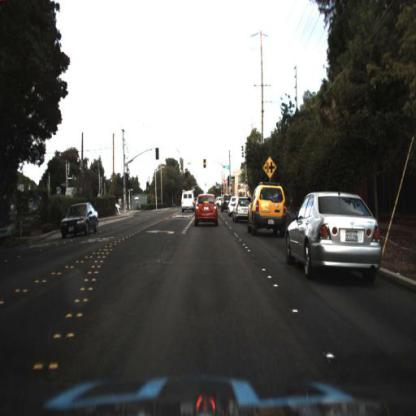car: (282, 183, 383, 283), (58, 193, 102, 243), (250, 182, 291, 235), (190, 188, 224, 237), (177, 186, 195, 216), (232, 192, 248, 224), (219, 190, 231, 214)
trafficLight: (202, 154, 208, 176), (183, 164, 189, 180)
